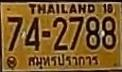2: (52, 16, 66, 50)
4: (24, 16, 39, 50)
7: (7, 16, 22, 50), (69, 16, 83, 49)
8: (85, 16, 99, 48), (102, 16, 115, 48)
SPK: (26, 52, 101, 71)
